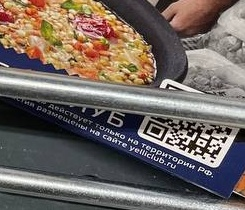2d: (140, 82, 244, 166)
